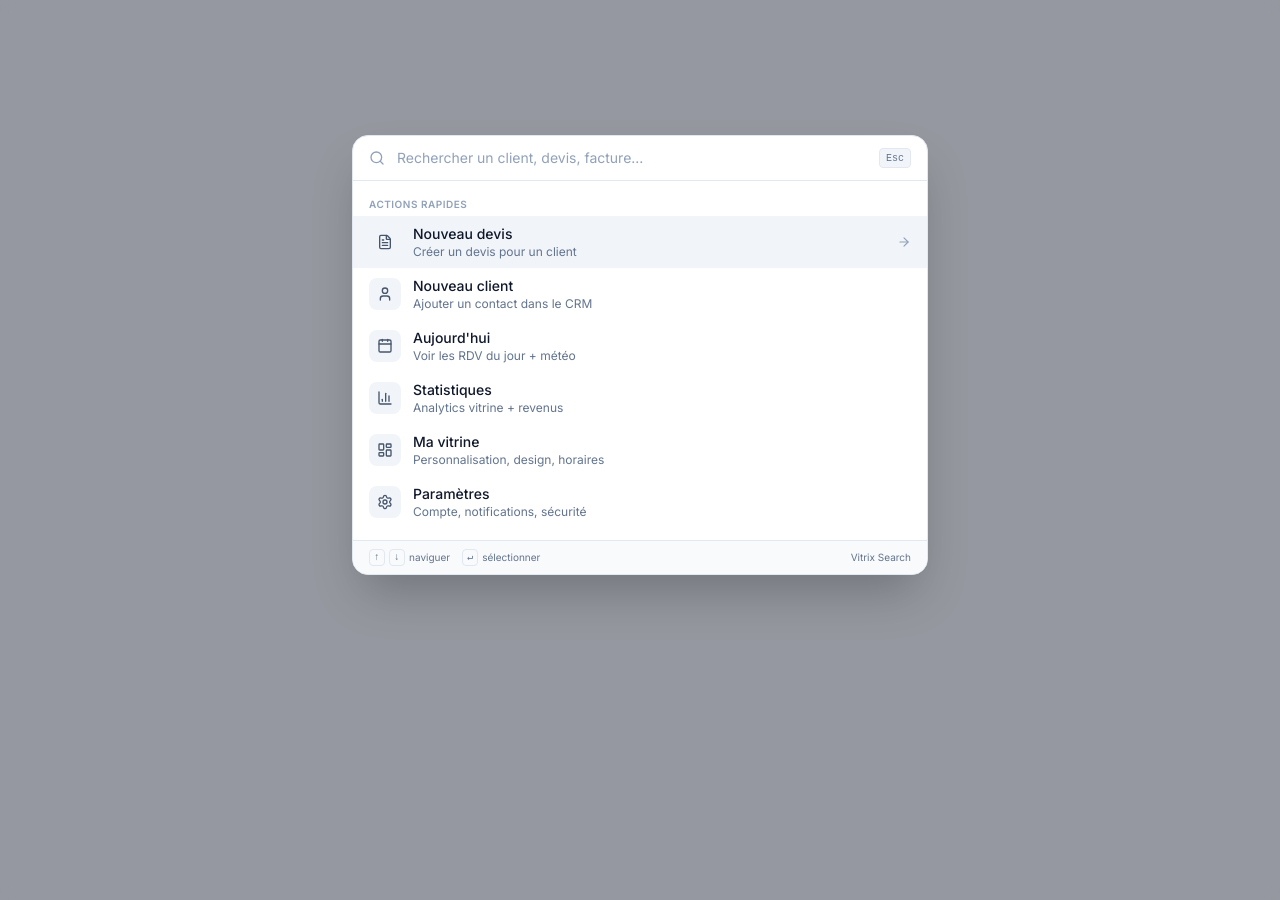
Test case: <CommandPalette /> — recherche › empty state affiché si query >= 2 et 0 résultats
In the field with placeholder "Rechercher un client, devis, facture...": (632,158) [397,148,867,168], type "zzznotfound"
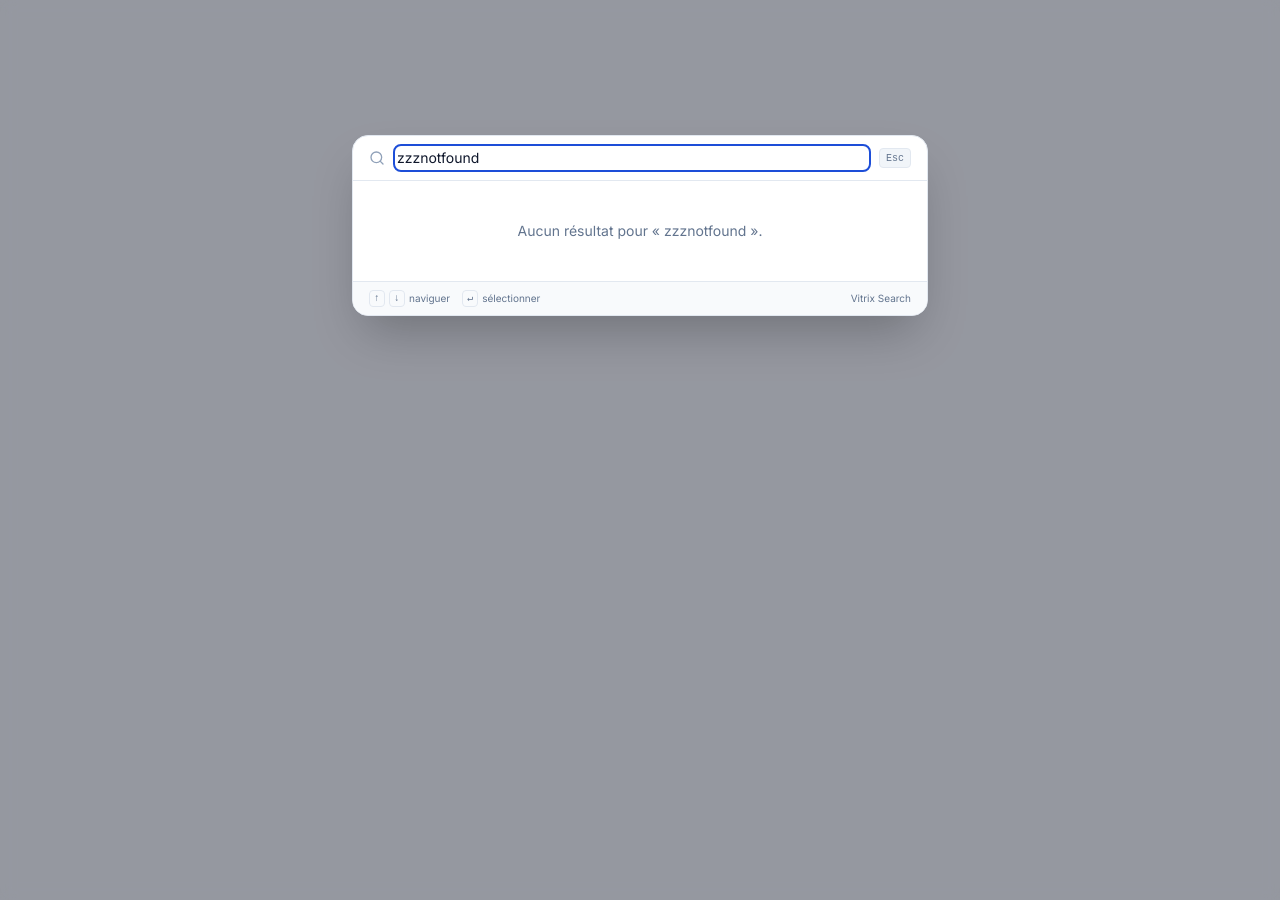
expect the text "Aucun résultat pour « zzznotfound »." is shown: met, box [518,222,762,239]
